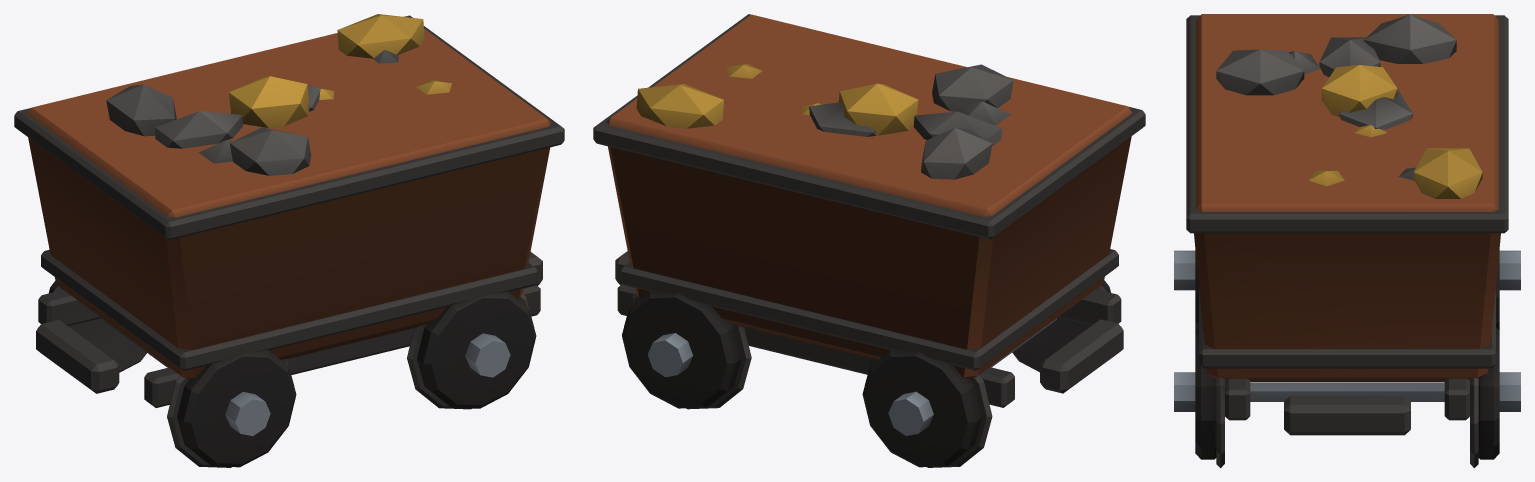
File: mine_cart.glb
The picture shows the model from 3 angles, left to right: view 1: azimuth 30°, elevation 25°; view 2: azimuth 150°, elevation 25°; view 3: azimuth 270°, elevation 25°; orthographic projection. The views are drawn at different scales.
Visible parts, largest first — view 1: Body; view 2: Body; view 3: Body.
Boxes of the visible parts, x1,y1,x2,y2 form: Body: (14, 14, 564, 467); Body: (593, 14, 1145, 467); Body: (1174, 14, 1520, 467).
Size of the model in its own units: 1.28 by 0.8574 by 0.82.
